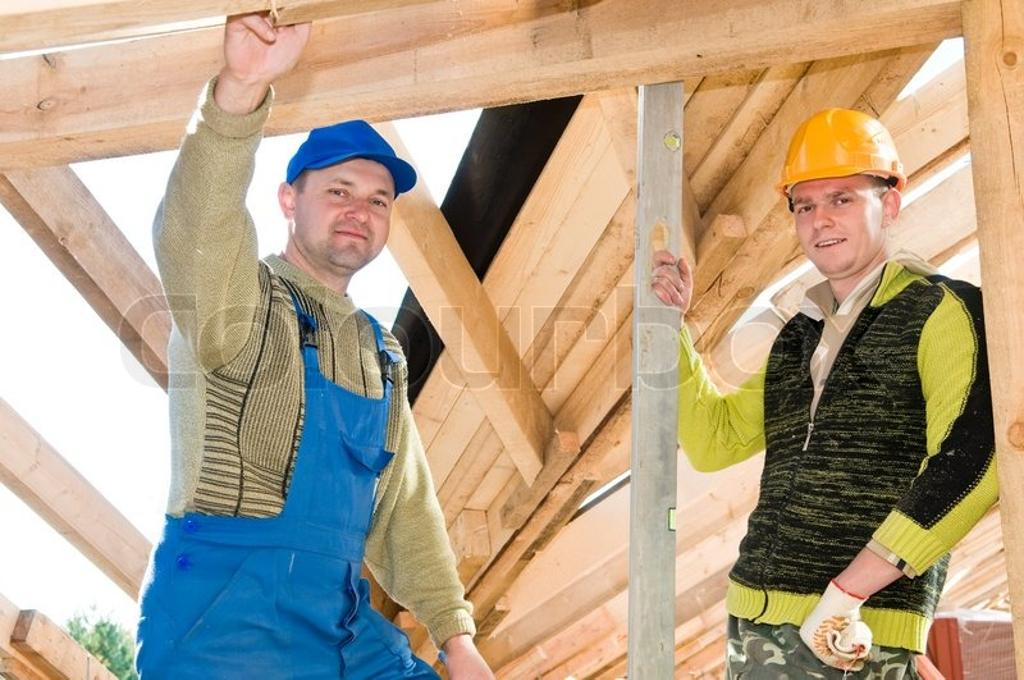face: (790, 146, 884, 266), (308, 136, 392, 260)
